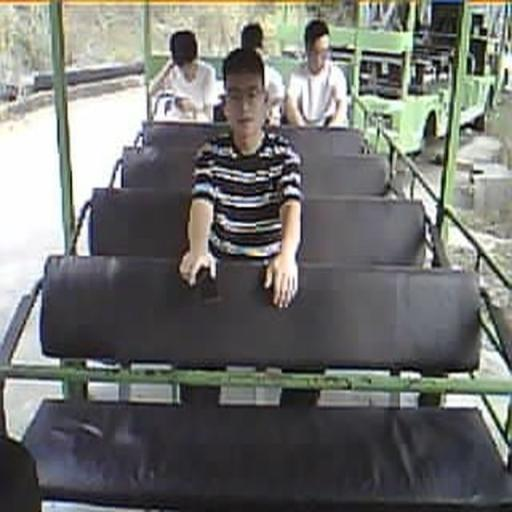persona: (178, 46, 304, 309), (212, 22, 286, 128), (284, 18, 350, 128), (152, 29, 220, 121)
